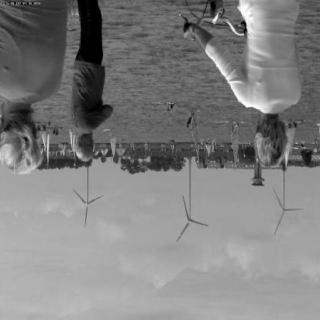other: (65, 63, 111, 140), (3, 120, 40, 176)
